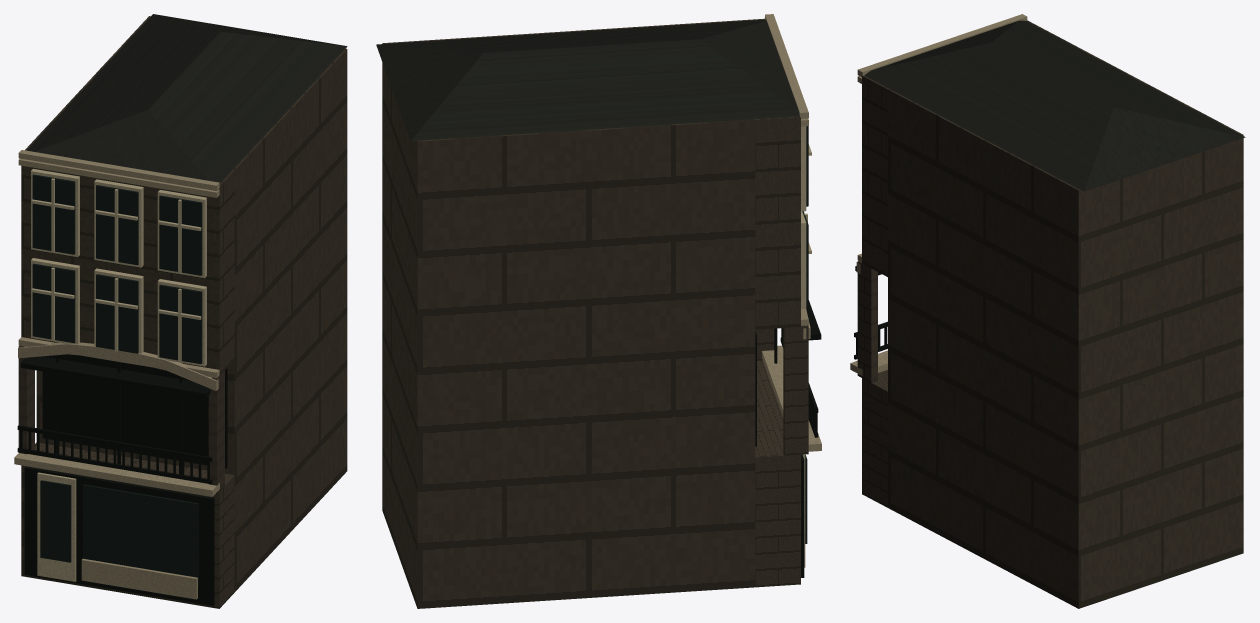
3 renders of one model, left to right at view 1: azimuth 30°, elevation 25°; view 2: azimuth 150°, elevation 25°; view 3: azimuth 270°, elevation 25°, orthographic. The views are drawn at different scales.
Parts seen in each view (by area): view 1: delftsevaart27-0, delftsevaart27-1, delftsevaart27-4, delftsevaart27-5, delftsevaart27-2, delftsevaart27-3; view 2: delftsevaart27-0, delftsevaart27-1, delftsevaart27-2, delftsevaart27-5, delftsevaart27-3, delftsevaart27-4; view 3: delftsevaart27-0, delftsevaart27-1, delftsevaart27-2.
Part boxes in pixels (x1,y1,x2,y2): delftsevaart27-0: (18,16,347,608); delftsevaart27-1: (27,14,347,183); delftsevaart27-4: (32,174,202,586); delftsevaart27-5: (17,354,227,605); delftsevaart27-2: (14,150,219,599); delftsevaart27-3: (31,169,206,581); delftsevaart27-0: (382,18,808,608); delftsevaart27-1: (376,19,799,140); delftsevaart27-2: (762,14,821,451); delftsevaart27-5: (755,300,821,577); delftsevaart27-3: (801,126,811,567); delftsevaart27-4: (802,126,808,543); delftsevaart27-0: (857,20,1243,608); delftsevaart27-1: (864,20,1245,191); delftsevaart27-2: (850,14,1027,375).
Size of the model in its own units: 10.68 by 12.55 by 10.02.
Materials: 6 (6 with a texture image).
